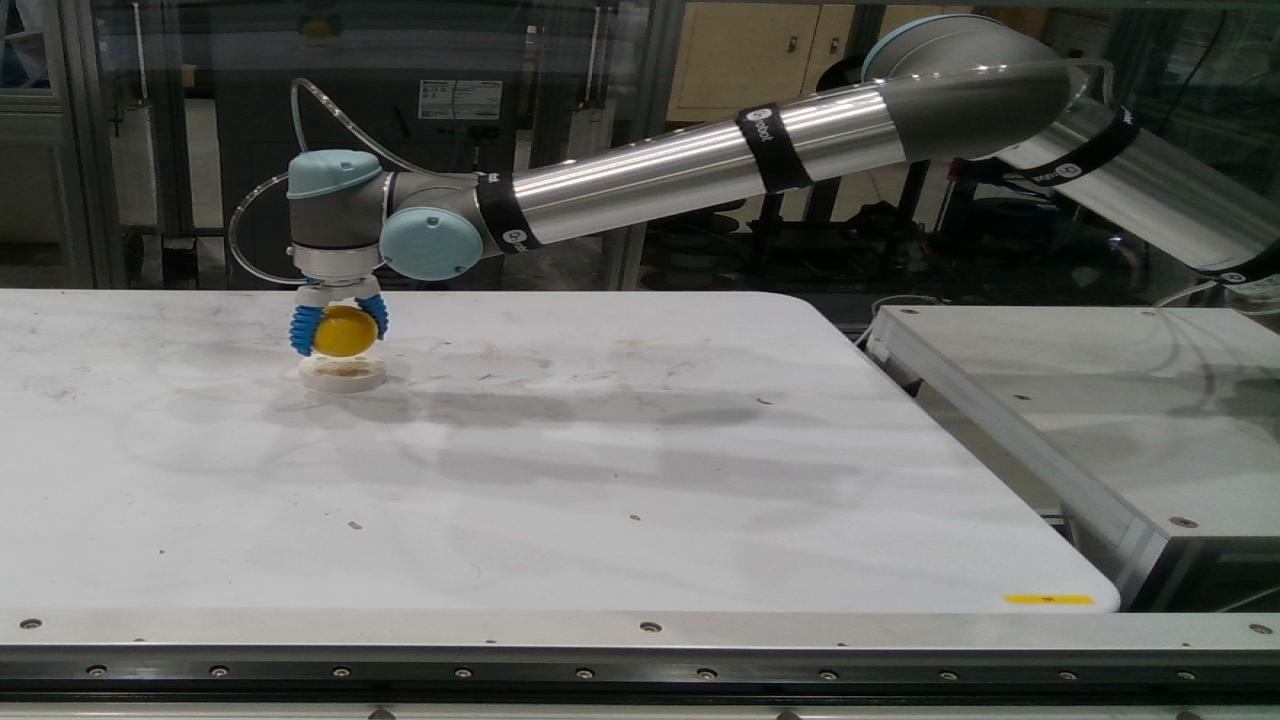UR5: (288, 14, 1279, 335)
gripper_left: (356, 293, 389, 340)
gripper_right: (290, 306, 324, 357)
target: (299, 350, 387, 393), (304, 306, 377, 357)
